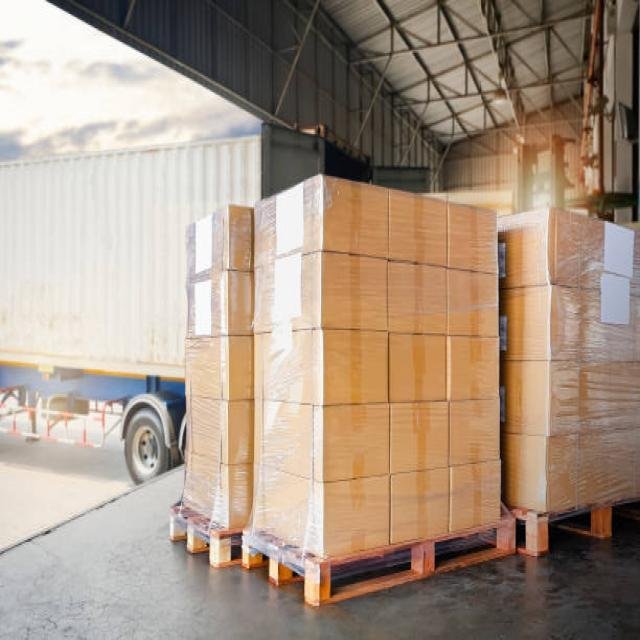Wooden-Pallets: (234, 511, 520, 616), (162, 495, 225, 573)
